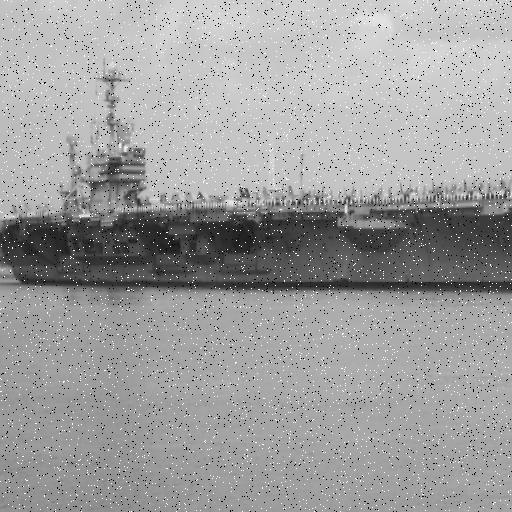Portanaves: (1, 53, 512, 293)
